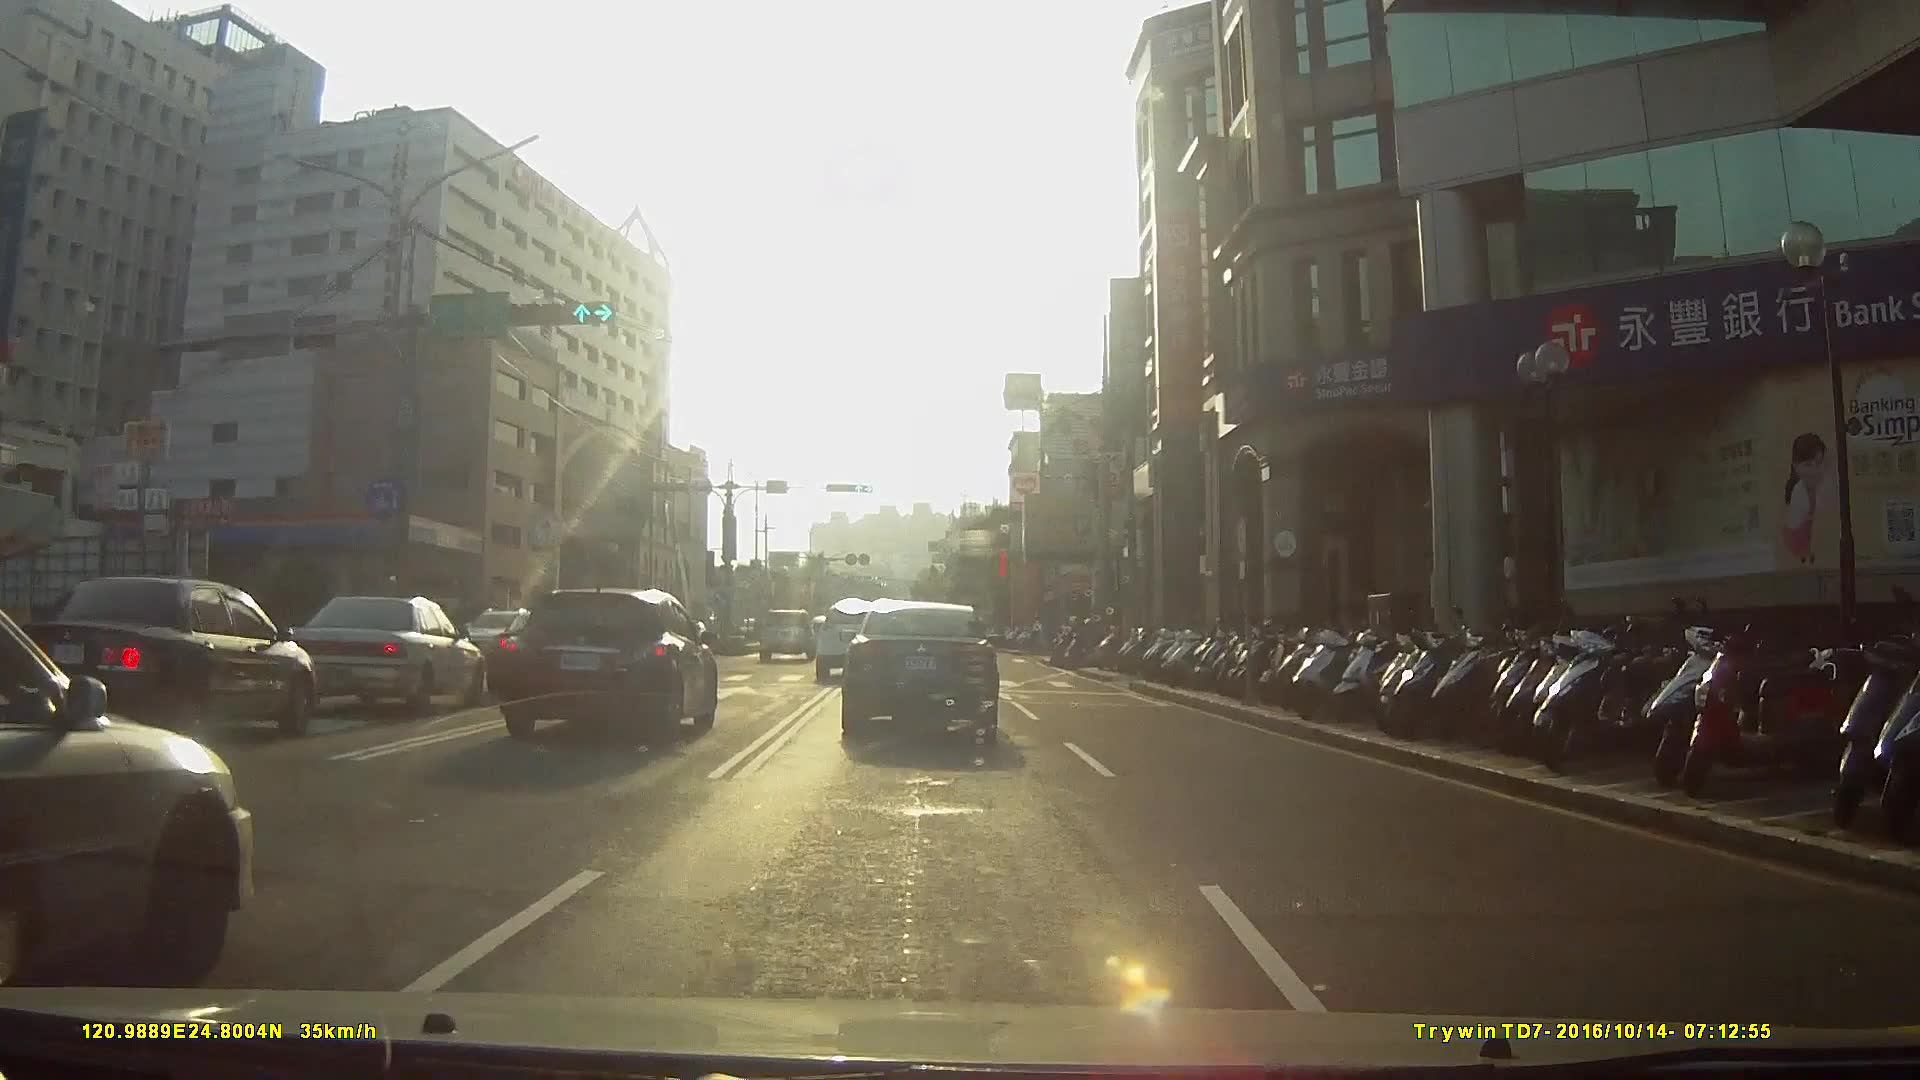rider: (1064, 620, 1115, 672)
vehicle: (1, 600, 262, 1005), (19, 571, 318, 753), (492, 587, 731, 751), (262, 593, 502, 724), (837, 601, 1017, 747), (459, 610, 584, 698), (810, 601, 889, 685), (755, 606, 814, 661)
